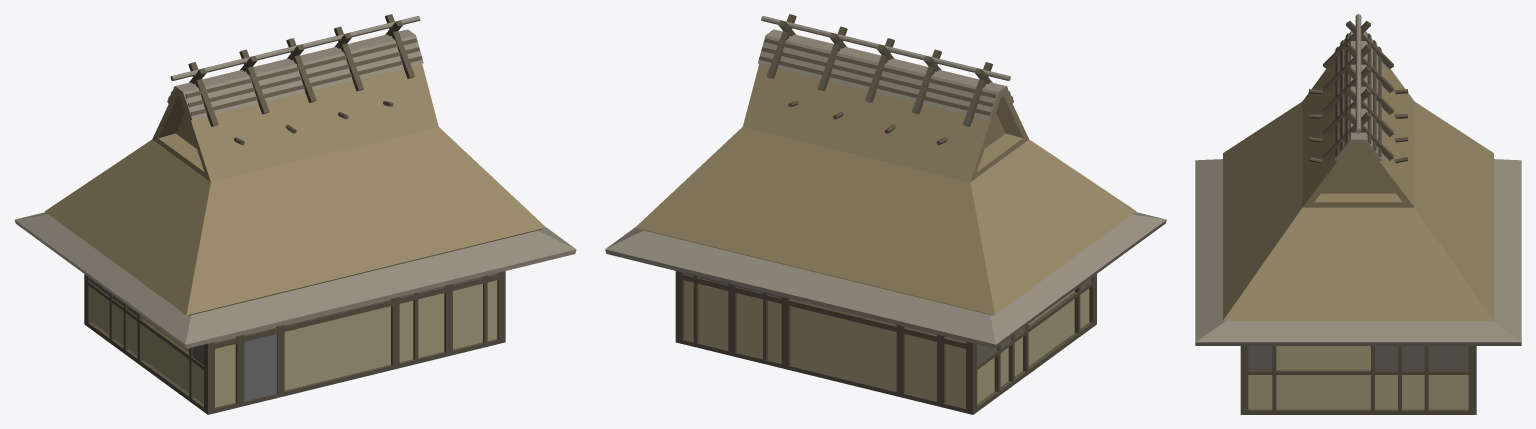
Rendered from Lake_House_1.fbx.
3 views of the same model, side by side, from view 1: azimuth 30°, elevation 25°; view 2: azimuth 150°, elevation 25°; view 3: azimuth 270°, elevation 25° (orthographic). The views are drawn at different scales.
Visible parts, largest first — view 1: polySurface18; view 2: polySurface18; view 3: polySurface18.
Part boxes in pixels (box(x1,y1,x2,y2)): polySurface18: box(14, 14, 576, 414); polySurface18: box(605, 14, 1166, 414); polySurface18: box(1195, 14, 1521, 414).
Size of the model in its own units: 1825 by 1300 by 1382.
